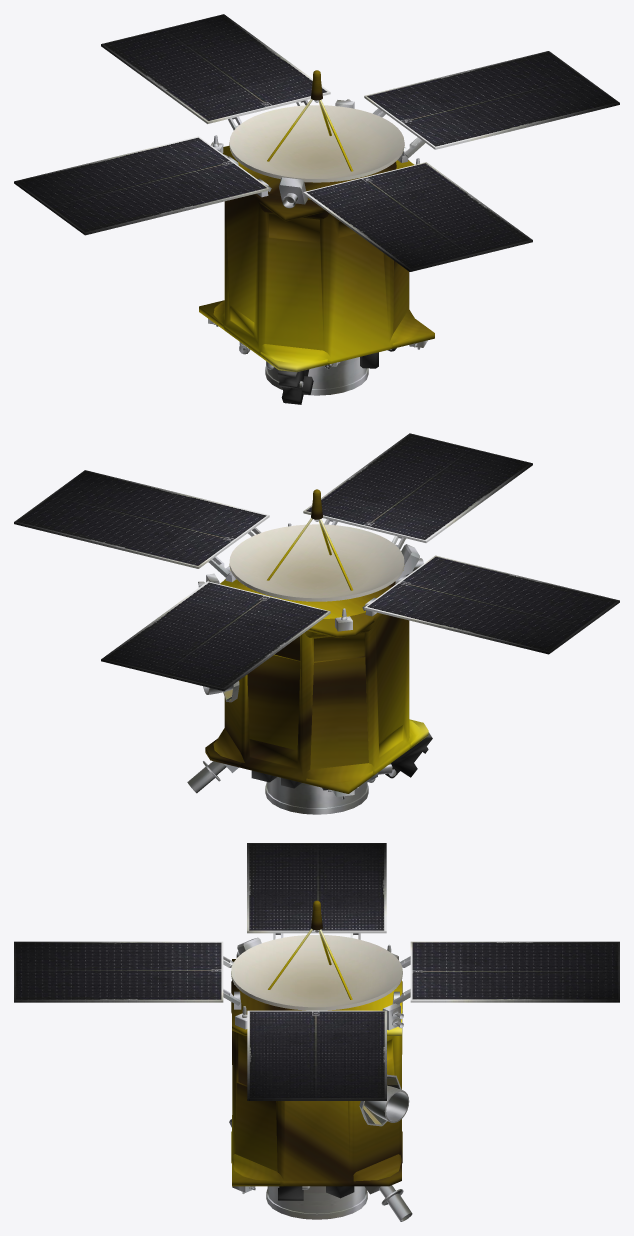
File: near.glb
3 views of the same model, one above another, from view 1: azimuth 30°, elevation 25°; view 2: azimuth 150°, elevation 25°; view 3: azimuth 270°, elevation 25° (orthographic).
Parts seen in each view (by area): view 1: shiny_panels, foil_gold, tex_01, foil_silver; view 2: shiny_panels, foil_gold, tex_01, foil_silver; view 3: shiny_panels, tex_01, foil_gold, foil_silver.
Boxes of the visible parts, x1,y1,x2,y2 form: shiny_panels: (16,15,617,269); foil_gold: (199,70,434,372); tex_01: (14,14,619,395); foil_silver: (277,348,396,404); shiny_panels: (16,434,617,688); foil_gold: (205,489,428,793); tex_01: (14,433,619,814); foil_silver: (251,732,432,790); shiny_panels: (15,843,618,1098); tex_01: (14,843,619,1221); foil_gold: (231,900,402,1186); foil_silver: (229,1119,354,1200).
Bounding box in the file's own units: 5.29 × 2.86 × 5.29.
Materials: 4 (4 with a texture image).
